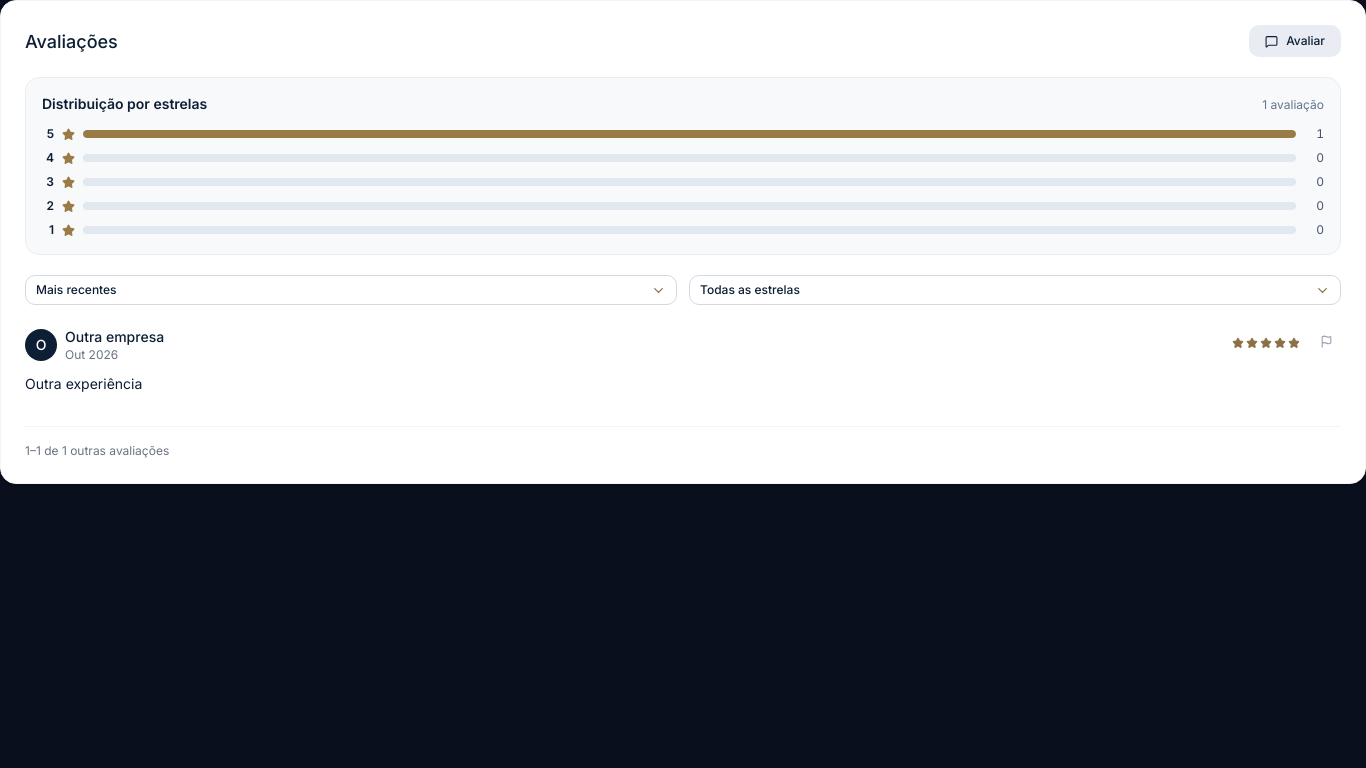
Test: Aviso de avaliação a aguardar moderação no perfil público › o aviso desaparece ao abrir de novo o formulário
Click the button "Avaliar" at {"x": 1295, "y": 41}, box [1249,25,1341,57]
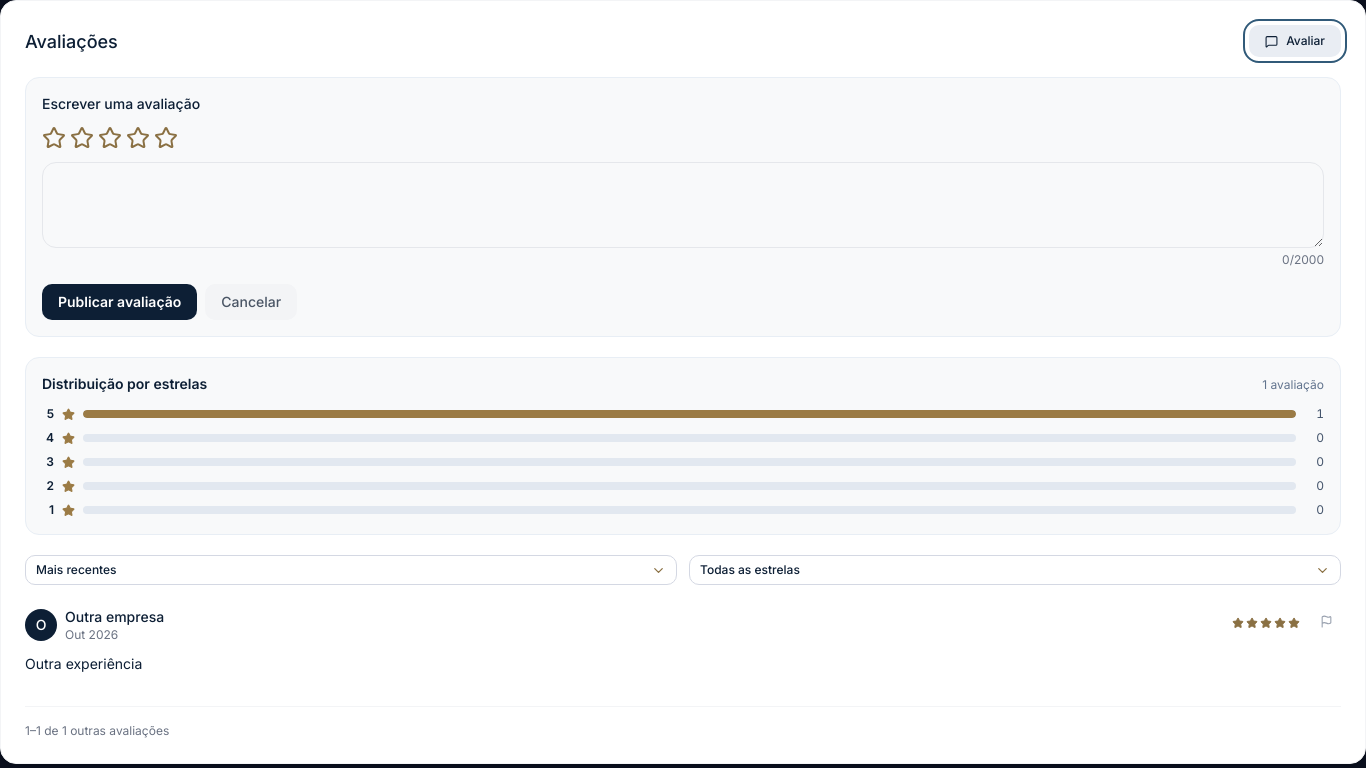
Click the radio button named "4 estrelas" at {"x": 138, "y": 138}, box [126,126,150,150]
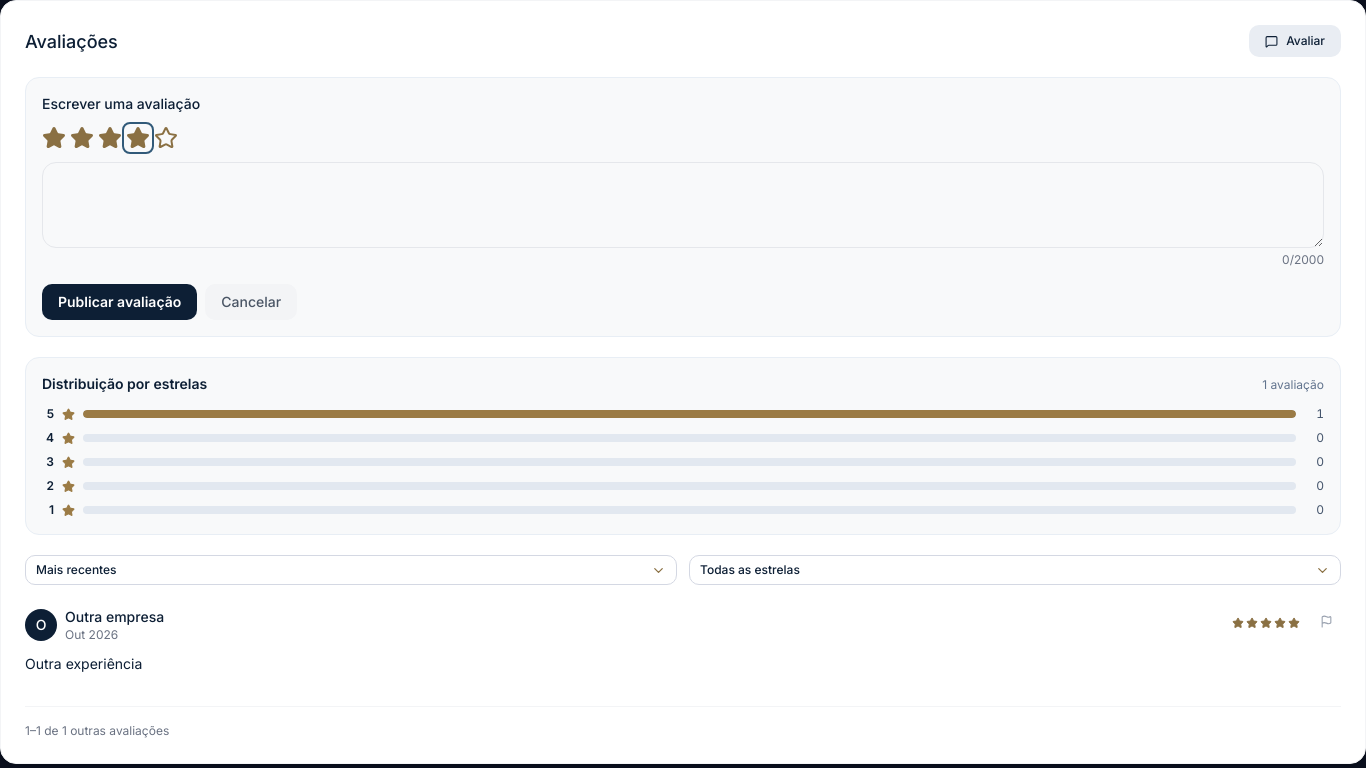
Type "Bom serviço" into the text box at {"x": 683, "y": 205}, box [42,162,1324,248]
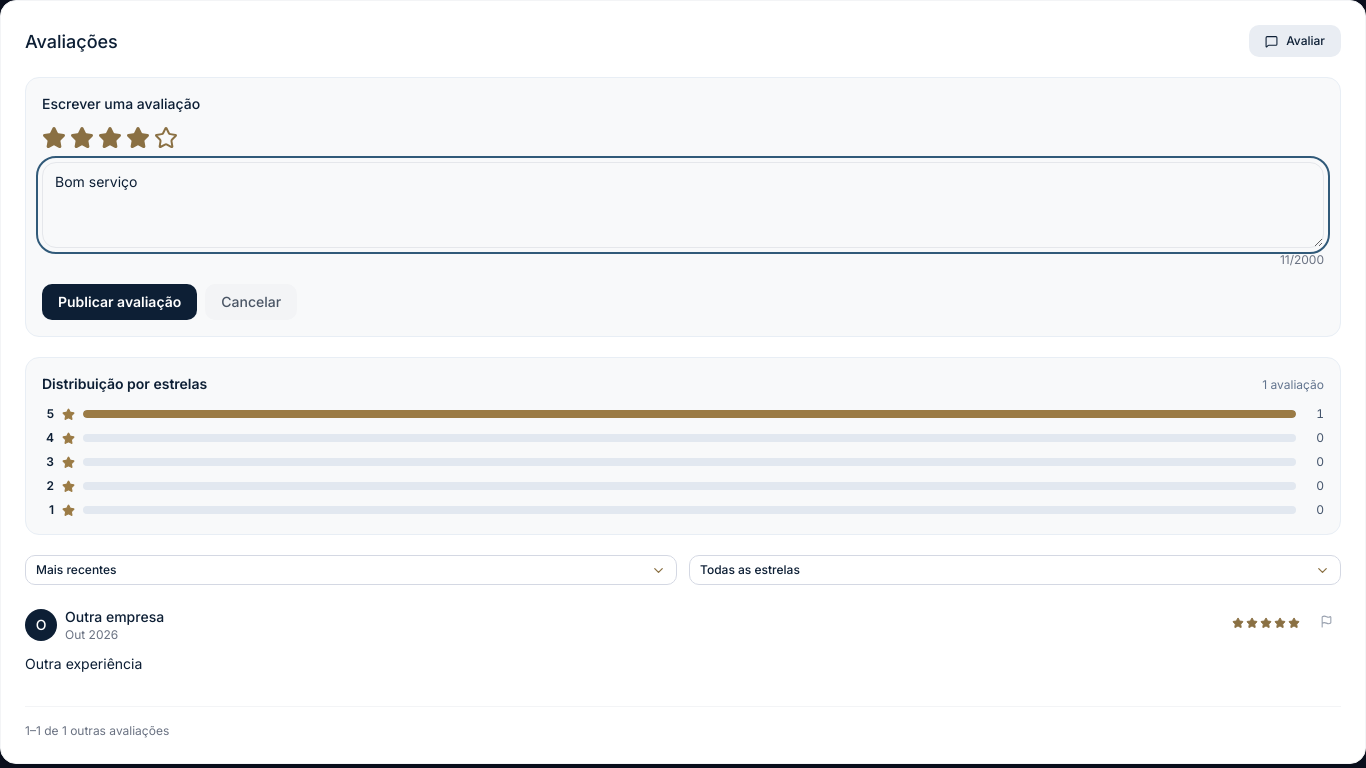
Click the button "Publicar avaliação" at {"x": 120, "y": 302}, box [42,284,197,320]
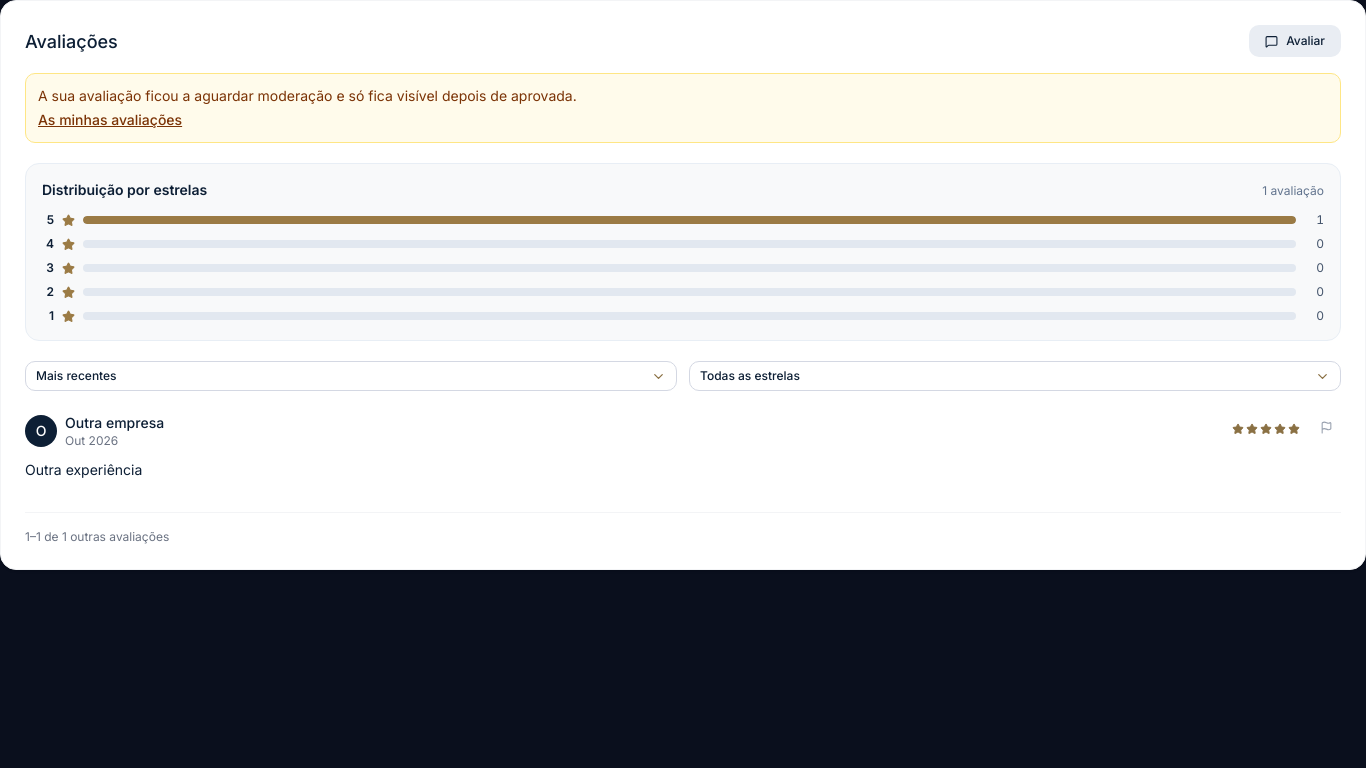
Click the button "Avaliar" at {"x": 1295, "y": 41}, box [1249,25,1341,57]
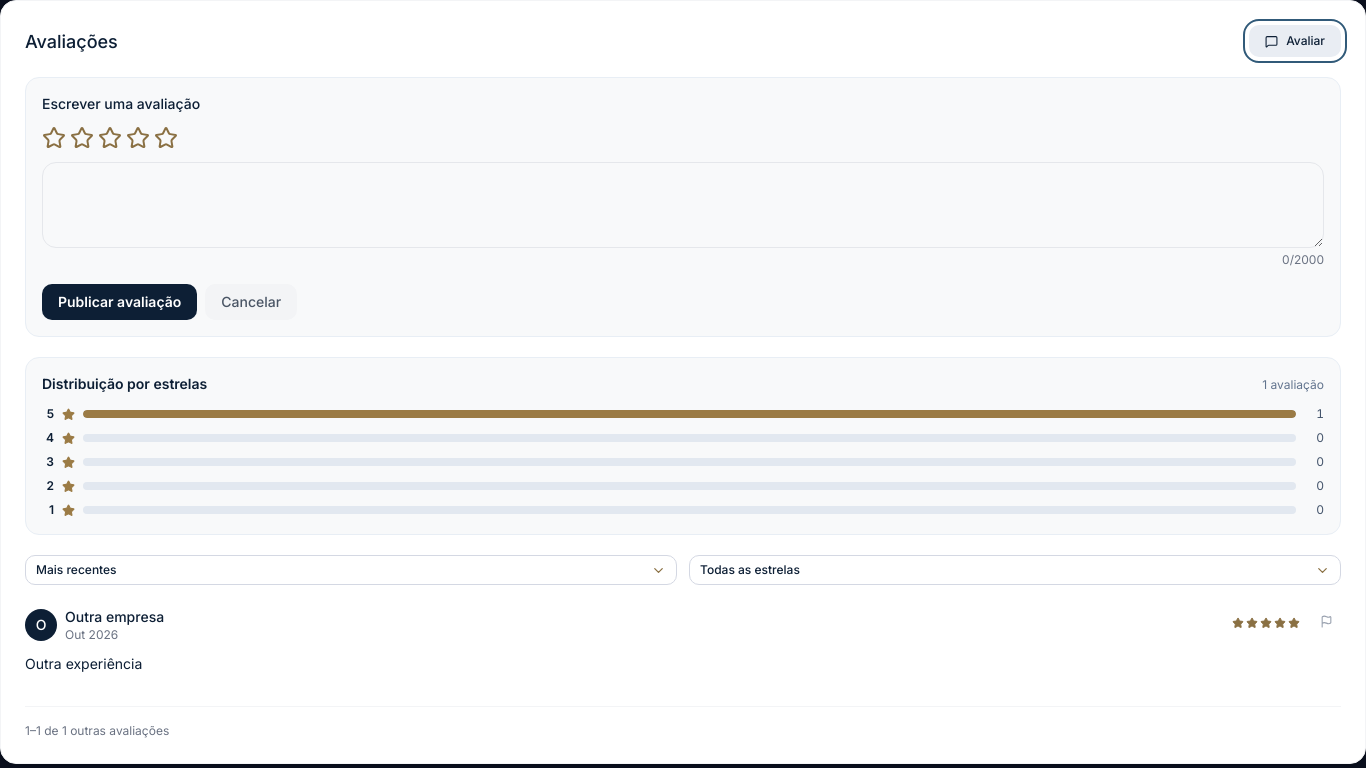
Expected: the text "A sua avaliação ficou a aguardar moderação e só fica visível depois de aprovada." is gone
Expected: the text box is shown, [42,162,1324,248]
